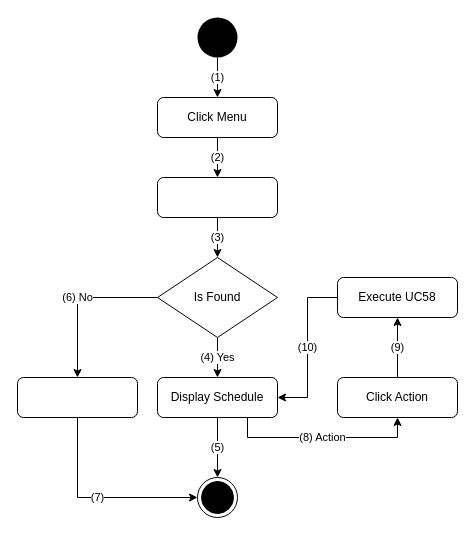
Some shapes in this 475 by 535 pixel diagram are drawn without their labels. Here are the shapes that lost their labels. From the top down, the centre of each, then its label:
At (217,197): "Query DB".
At (77,397): "Show Empty".
